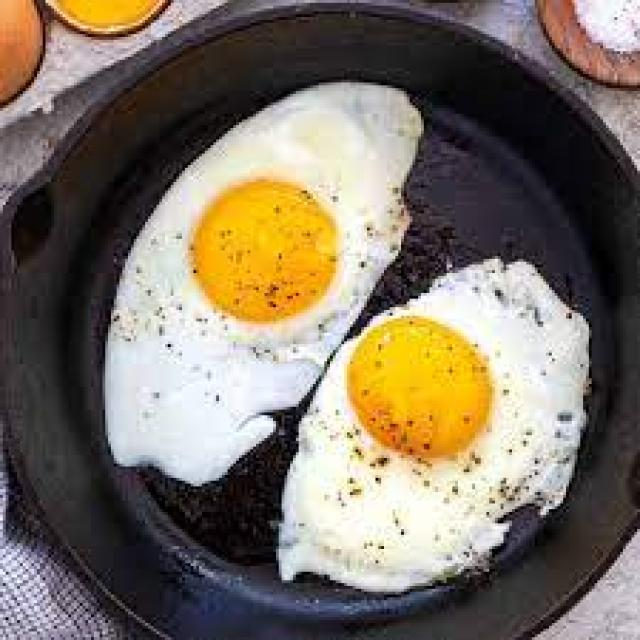Egg: (108, 85, 424, 484), (281, 259, 589, 592)
